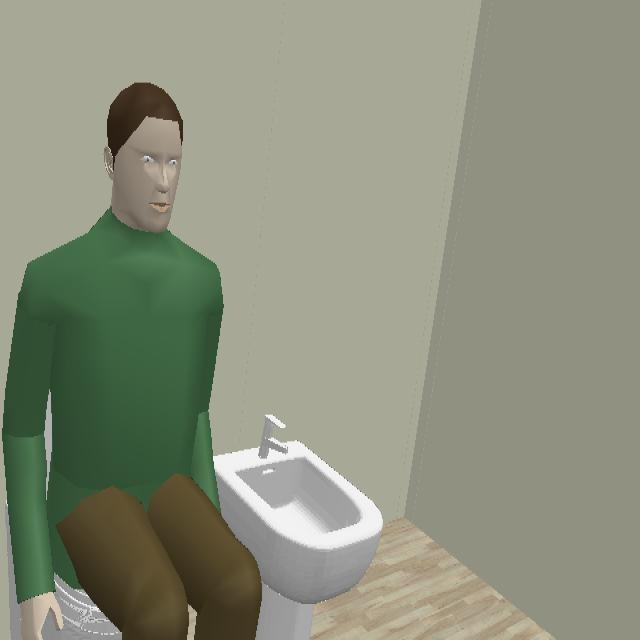person: (0, 84, 263, 640)
toilet: (44, 577, 121, 640)
washbasin: (213, 436, 384, 640)
